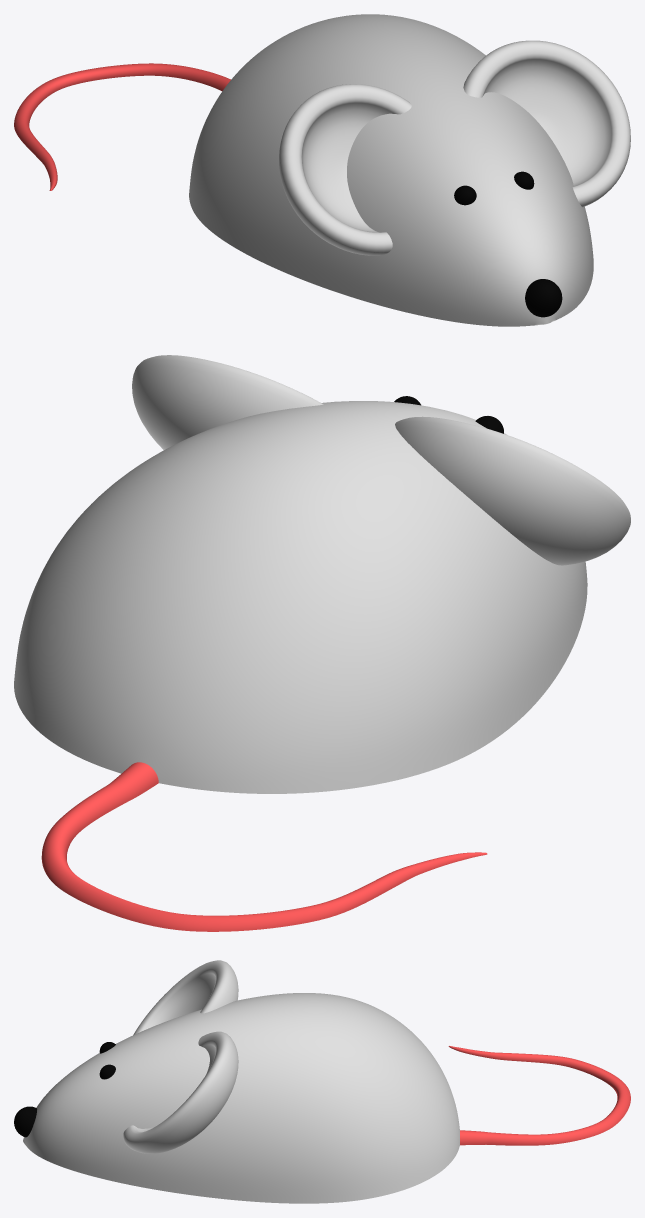
The model's file is Mauz.FBX.
3 renders of one model, top to bottom at view 1: azimuth 30°, elevation 25°; view 2: azimuth 150°, elevation 25°; view 3: azimuth 270°, elevation 25°, orthographic. The views are drawn at different scales.
Visible parts, largest first — view 1: Sphere003; view 2: Sphere003; view 3: Sphere003.
Boxes of the visible parts, x1,y1,x2,y2 form: Sphere003: [14, 14, 630, 326]; Sphere003: [14, 355, 630, 931]; Sphere003: [14, 960, 630, 1203].
Bounding box in the file's own units: 99.78 × 39.02 × 159.
